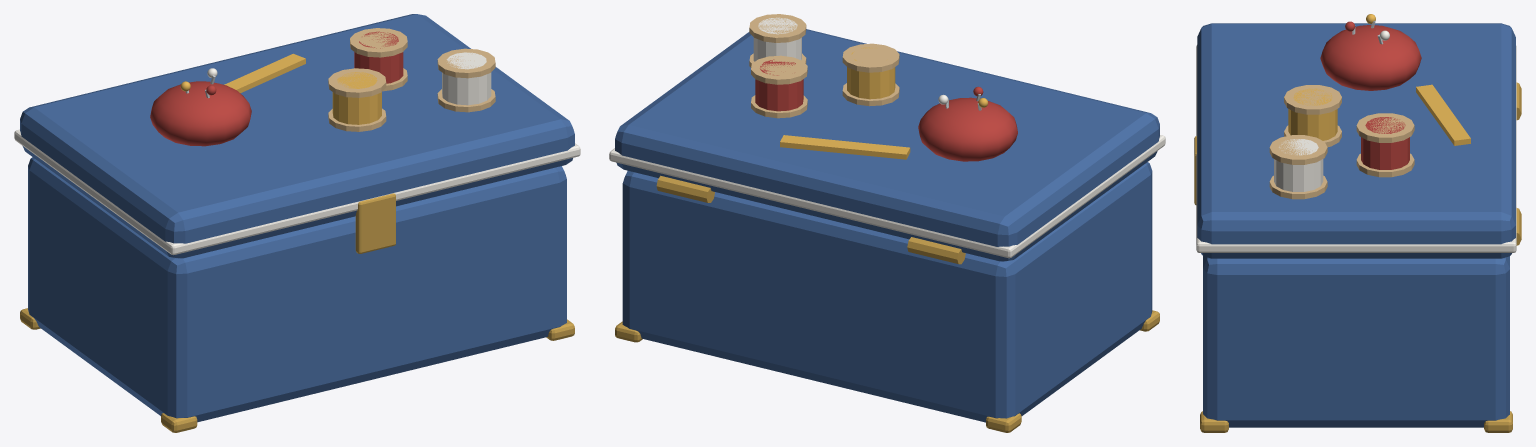
Rendered from hh_cat_sewing_box.glb.
3 renders of one model, left to right at view 1: azimuth 30°, elevation 25°; view 2: azimuth 150°, elevation 25°; view 3: azimuth 270°, elevation 25°, orthographic. The views are drawn at different scales.
Parts seen in each view (by area): view 1: sewing_case, lid, pincushion, lid_band, clasp, thread.002, thread, spool_end.003, thread.001, spool_end.001, tape_measure, spool_end.005 (+2 smaller); view 2: sewing_case, lid, lid_band, pincushion, tape_measure, thread.001, spool_end.001, spool_end.003, thread.002, thread, spool_end.005, hinge (+1 smaller); view 3: lid, sewing_case, pincushion, lid_band, thread.001, thread.002, thread, spool_end.001, spool_end.003, tape_measure, spool_end.005, spool_end.002 (+3 smaller).
Part boxes in pixels (x1,y1,x2,y2): sewing_case: (28, 157, 566, 422); lid: (20, 14, 574, 258); pincushion: (150, 81, 251, 146); lid_band: (14, 129, 580, 254); clasp: (355, 193, 395, 253); thread.002: (442, 52, 491, 105); thread: (332, 72, 381, 124); spool_end.003: (350, 28, 407, 57); thread.001: (354, 31, 403, 83); spool_end.001: (328, 68, 386, 97); tape_measure: (224, 53, 305, 93); spool_end.005: (437, 48, 495, 78); sewing_case: (622, 162, 1152, 422); lid: (615, 29, 1159, 261); lid_band: (609, 135, 1165, 258); pincushion: (918, 97, 1017, 161); tape_measure: (780, 135, 910, 159); thread.001: (755, 59, 803, 111); spool_end.001: (842, 43, 899, 72); spool_end.003: (751, 55, 807, 84); thread.002: (753, 17, 801, 61); thread: (847, 47, 895, 99); spool_end.005: (749, 14, 806, 42); hinge: (907, 237, 965, 264); lid: (1197, 23, 1515, 258); sewing_case: (1203, 256, 1509, 427); pincushion: (1320, 25, 1421, 90); lid_band: (1196, 45, 1516, 252); thread.001: (1361, 117, 1409, 169); thread.002: (1274, 139, 1323, 191); thread: (1288, 88, 1337, 140); spool_end.001: (1284, 85, 1341, 114); spool_end.003: (1356, 113, 1414, 142); tape_measure: (1416, 84, 1470, 145); spool_end.005: (1269, 135, 1327, 164); spool_end.002: (1356, 153, 1414, 177).
Bounding box in the file's own units: 0.32 × 0.2 × 0.22.
